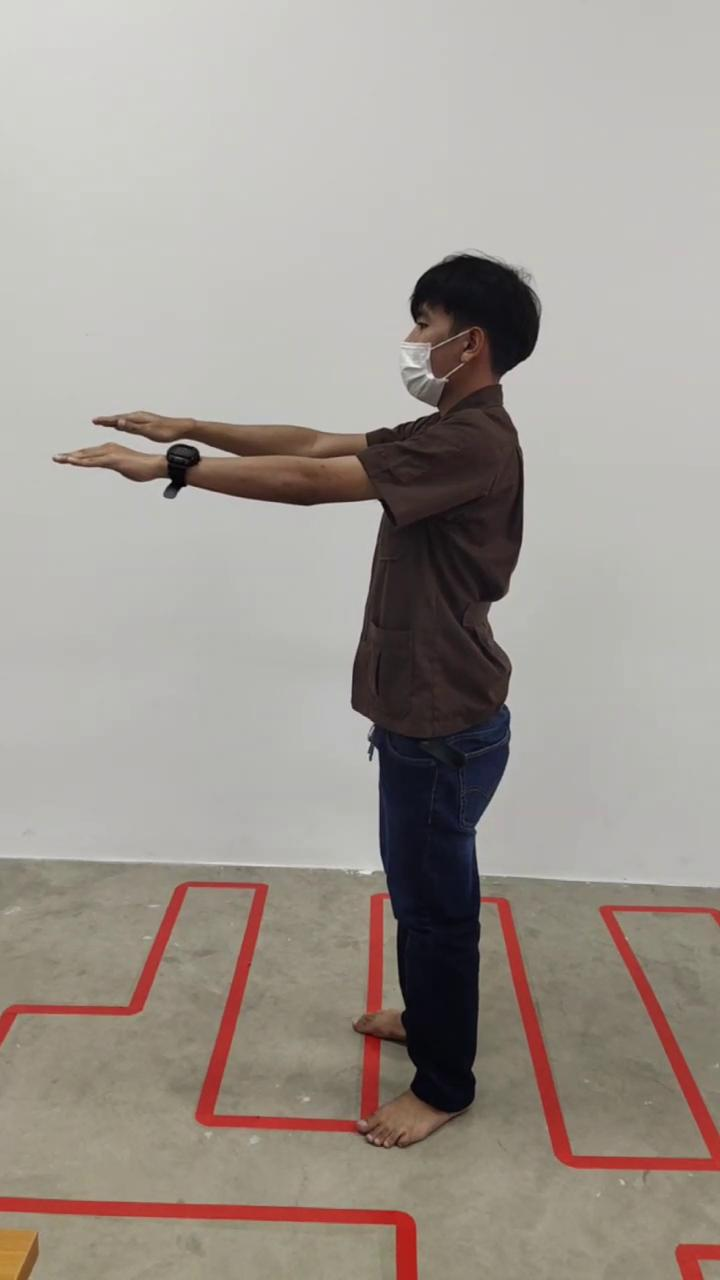squat up: (57, 252, 540, 1148)
